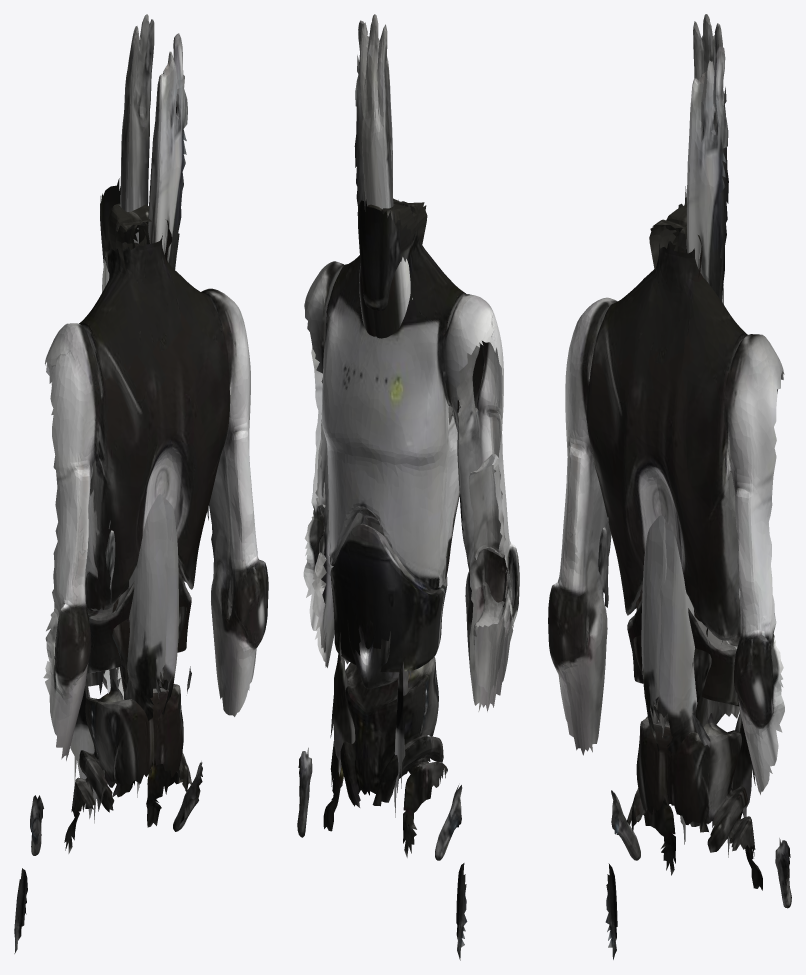
File: optimus.glb
3 views of the same model, side by side, from view 1: azimuth 30°, elevation 25°; view 2: azimuth 150°, elevation 25°; view 3: azimuth 330°, elevation 25° (orthographic). The views are drawn at different scales.
Visible parts, largest first — view 1: Torso__0, LeftThigh__0, LeftLowerArm__0, RightLowerArm__0, Pelvis__0, RightThigh__0, LeftCalf__0, RightCalf__0; view 2: Torso__0, RightLowerArm__0, Pelvis__0, LeftThigh__0, LeftLowerArm__0, LeftCalf__0, RightThigh__0; view 3: Torso__0, LeftLowerArm__0, RightThigh__0, LeftThigh__0, Pelvis__0, RightLowerArm__0, LeftCalf__0.
Boxes of the visible parts, bbox=[...] form: Torso__0: bbox=[14, 178, 268, 953]; LeftThigh__0: bbox=[102, 256, 168, 720]; LeftLowerArm__0: bbox=[116, 33, 187, 669]; RightLowerArm__0: bbox=[120, 14, 154, 243]; Pelvis__0: bbox=[70, 563, 186, 823]; RightThigh__0: bbox=[150, 497, 191, 716]; LeftCalf__0: bbox=[108, 203, 149, 272]; RightCalf__0: bbox=[122, 204, 171, 261]; Torso__0: bbox=[297, 199, 519, 960]; RightLowerArm__0: bbox=[359, 14, 393, 209]; Pelvis__0: bbox=[330, 619, 411, 817]; LeftThigh__0: bbox=[374, 257, 410, 338]; LeftLowerArm__0: bbox=[354, 20, 392, 211]; LeftCalf__0: bbox=[381, 200, 427, 243]; RightThigh__0: bbox=[359, 263, 375, 336]; Torso__0: bbox=[548, 186, 791, 959]; LeftLowerArm__0: bbox=[687, 46, 728, 301]; RightThigh__0: bbox=[654, 284, 723, 755]; LeftThigh__0: bbox=[598, 515, 666, 751]; Pelvis__0: bbox=[633, 587, 755, 857]; RightLowerArm__0: bbox=[686, 14, 722, 248]; LeftCalf__0: bbox=[649, 204, 686, 270].
Bounding box in the file's own units: 0.6742 × 2.77 × 0.354.
Materials: 1 (1 with a texture image).
